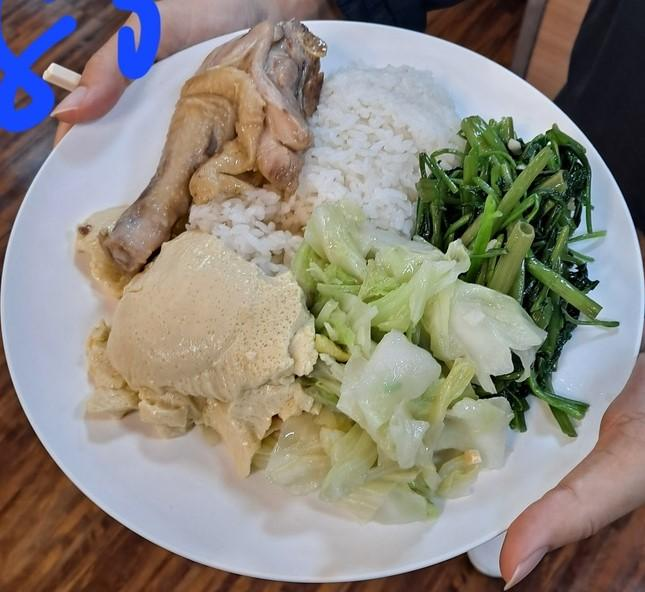big fried chicken leg: (7, 13, 636, 582)
big herbal chicken leg: (221, 58, 460, 266)
braised fish fillet: (289, 200, 544, 525), (410, 110, 597, 438), (84, 235, 315, 479)
braised pork: (106, 13, 328, 275)
